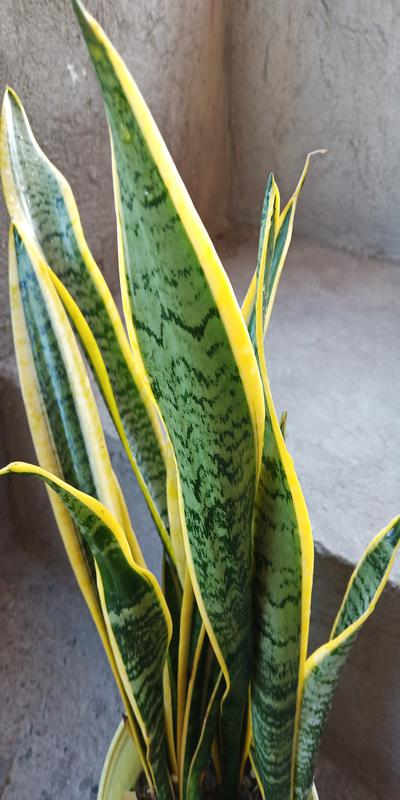Snake plant: (3, 88, 395, 734)
